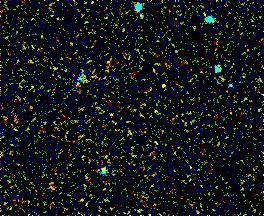star: (149, 70, 179, 100)
